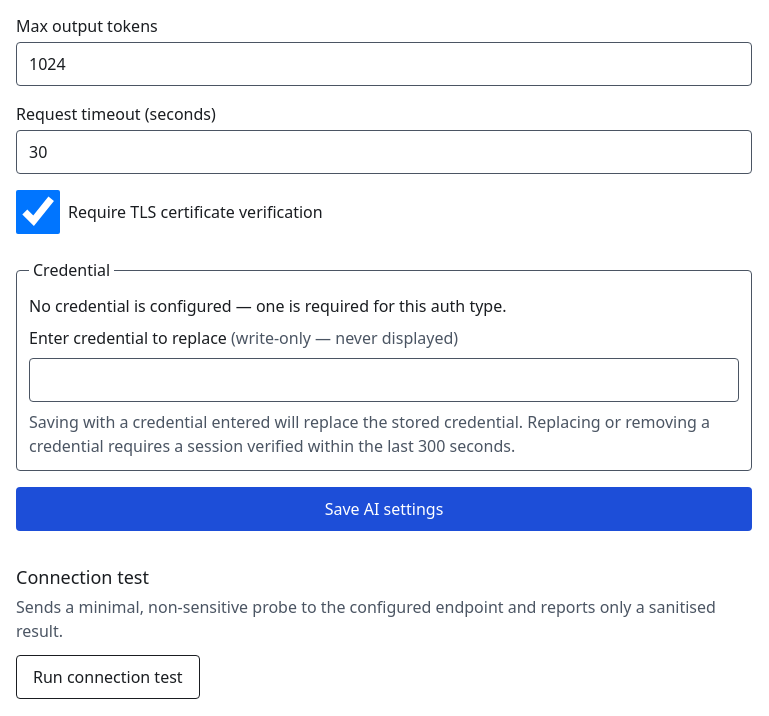
it: AiSettings — connection test surfaces only sanitised results (Req 13.1, 25.7) › renders the degraded/unavailable message when AI is not usable yet
(page scrolled)
Click the button "Run connection test".
click(108, 677)  # box [16, 655, 200, 699]
(page scrolled)
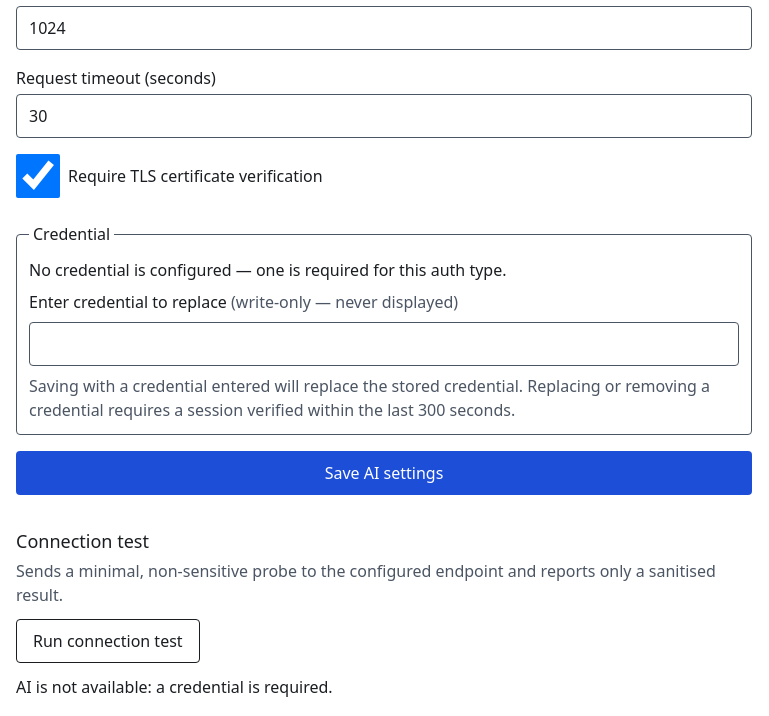
expect the text "AI is not available: a credential is required." is shown: met, box [16, 676, 333, 698]
